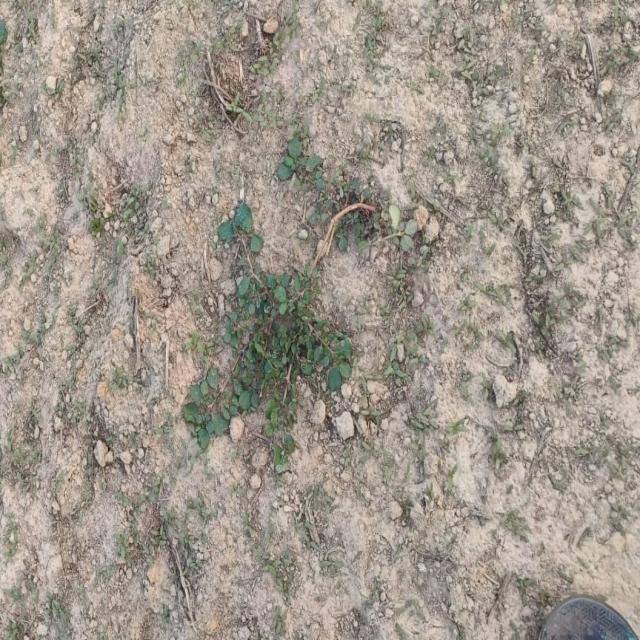weed: (182, 181, 378, 473), (278, 133, 327, 192)
